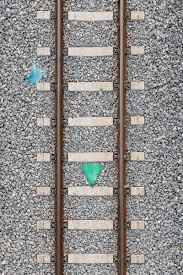Dust_screen: (83, 161, 104, 186)
Plastic: (25, 61, 47, 85)
